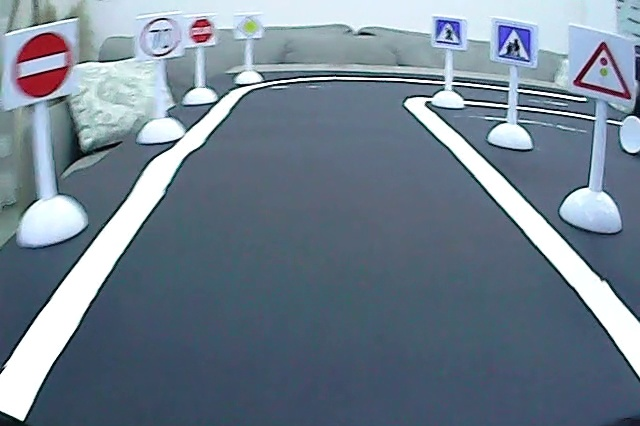do not enter: (12, 30, 75, 101)
pedestrian crossing: (433, 17, 464, 47)
red light: (570, 34, 637, 103)
school crossing: (495, 22, 535, 64)
speed limit 70: (139, 14, 181, 58)
stop sign: (188, 18, 215, 46)
